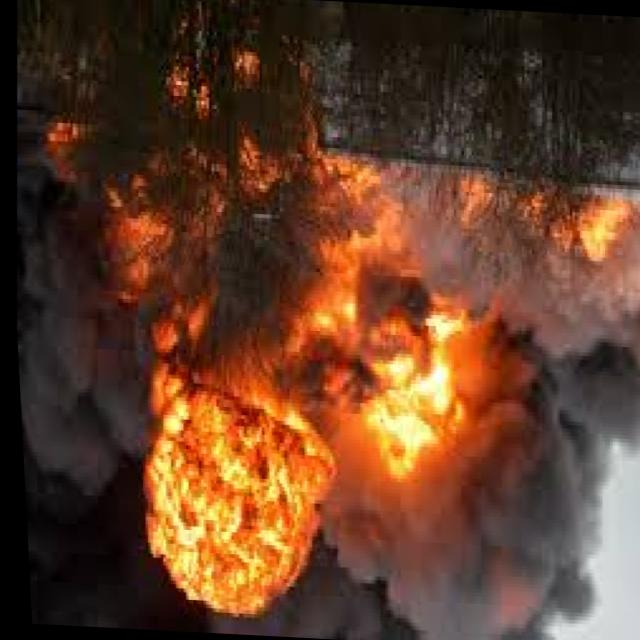Fire: (81, 95, 508, 640), (573, 200, 635, 266)
